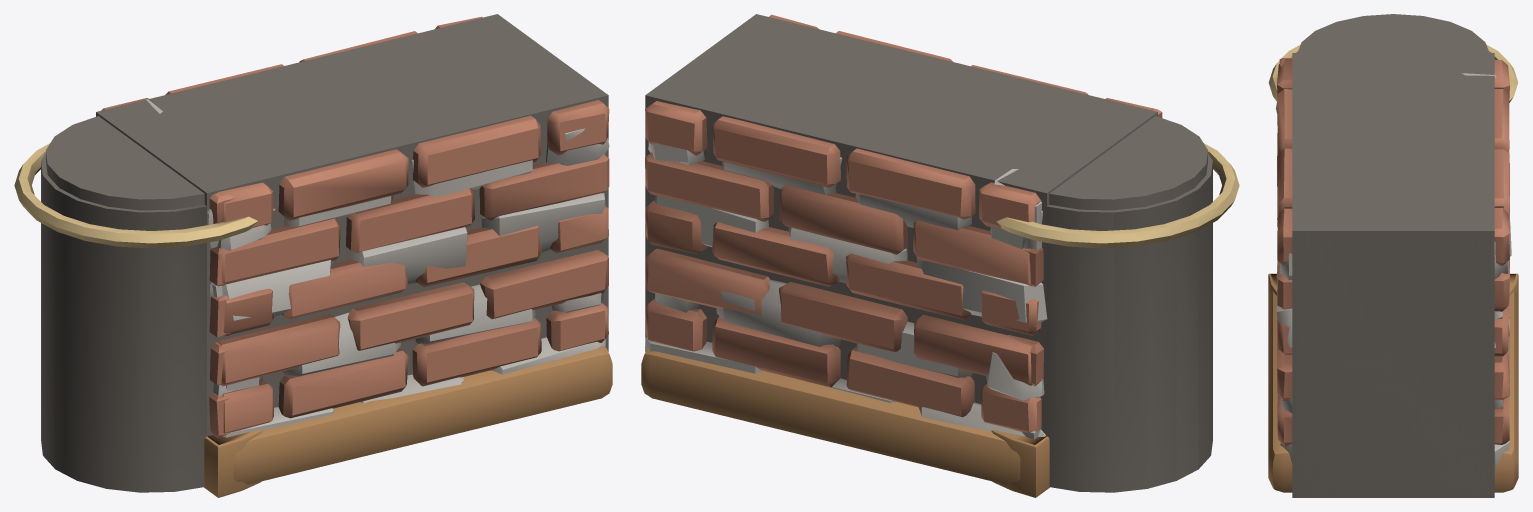
The model's file is walls.glb.
The picture shows the model from 3 angles, left to right: view 1: azimuth 30°, elevation 25°; view 2: azimuth 150°, elevation 25°; view 3: azimuth 270°, elevation 25°; orthographic projection. The views are drawn at different scales.
Visible parts, largest first — view 1: BrickSectionMesh, BrickEndMesh, StoneSectionMesh, CapSectionMesh, StoneEndMesh, CapEndMesh; view 2: BrickSectionMesh, BrickEndMesh, CapSectionMesh, StoneSectionMesh, StoneEndMesh, CapEndMesh; view 3: BrickSectionMesh, StoneSectionMesh, StoneEndMesh, CapSectionMesh, BrickEndMesh, CapEndMesh.
Boxes of the visible parts, x1,y1,x2,y2 form: BrickSectionMesh: [96, 14, 609, 436]; BrickEndMesh: [14, 143, 274, 492]; StoneSectionMesh: [146, 99, 609, 437]; CapSectionMesh: [233, 346, 612, 484]; StoneEndMesh: [46, 116, 233, 435]; CapEndMesh: [204, 429, 263, 497]; BrickSectionMesh: [645, 14, 1157, 435]; BrickEndMesh: [996, 108, 1239, 492]; CapSectionMesh: [641, 348, 1020, 484]; StoneSectionMesh: [645, 142, 1047, 436]; StoneEndMesh: [1022, 116, 1207, 439]; CapEndMesh: [991, 430, 1049, 497]; BrickSectionMesh: [1277, 53, 1509, 497]; StoneSectionMesh: [1275, 73, 1511, 495]; StoneEndMesh: [1297, 14, 1489, 52]; CapSectionMesh: [1268, 291, 1518, 492]; BrickEndMesh: [1268, 44, 1518, 102]; CapEndMesh: [1268, 273, 1518, 295].
Bounding box in the file's own units: 62.2 × 33.78 × 28.5.
